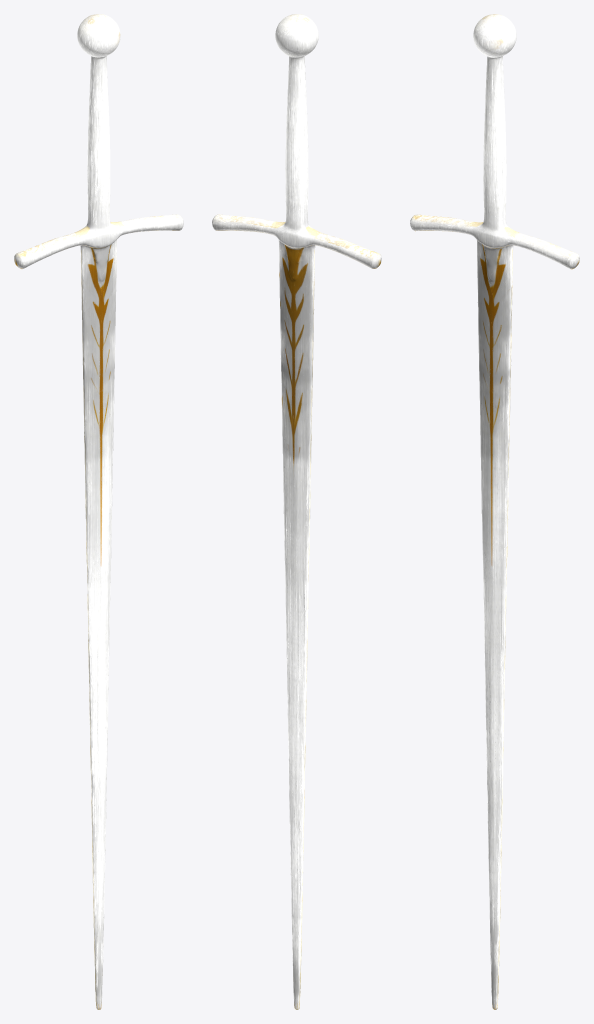
The model's file is Meshy_AI_Cruciform_Longsword_0503231945_texture.fbx.
3 views of the same model, side by side, from view 1: azimuth 30°, elevation 25°; view 2: azimuth 150°, elevation 25°; view 3: azimuth 330°, elevation 25° (orthographic).
Parts seen in each view (by area): view 1: Mesh_0; view 2: Mesh_0; view 3: Mesh_0.
Boxes of the visible parts, x1=… form: Mesh_0: x1=14, y1=14, x2=183, y2=1009; Mesh_0: x1=212, y1=14, x2=381, y2=1009; Mesh_0: x1=410, y1=14, x2=579, y2=1009.
Size of the model in its own units: 33.31 by 190 by 7.51.
Materials: 1 (1 with a texture image).
